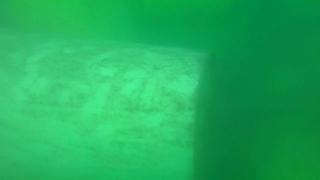pipe: (1, 35, 215, 180), (3, 1, 147, 43)
